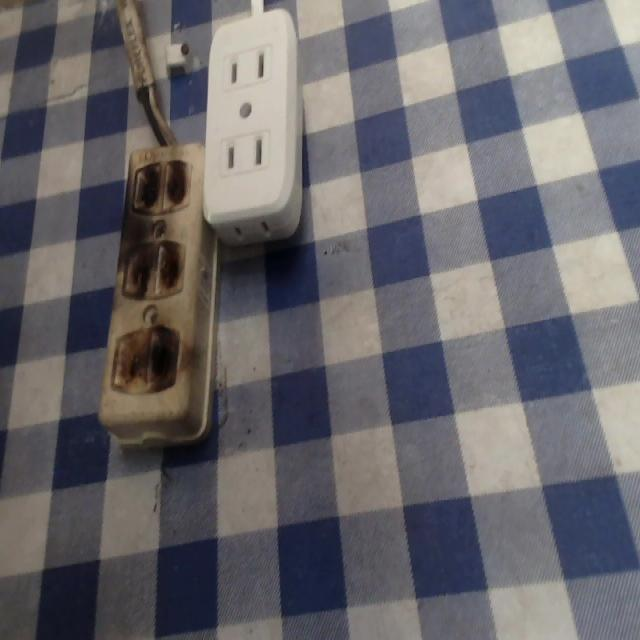-: (115, 236, 195, 308), (112, 323, 185, 401), (127, 157, 197, 223)
